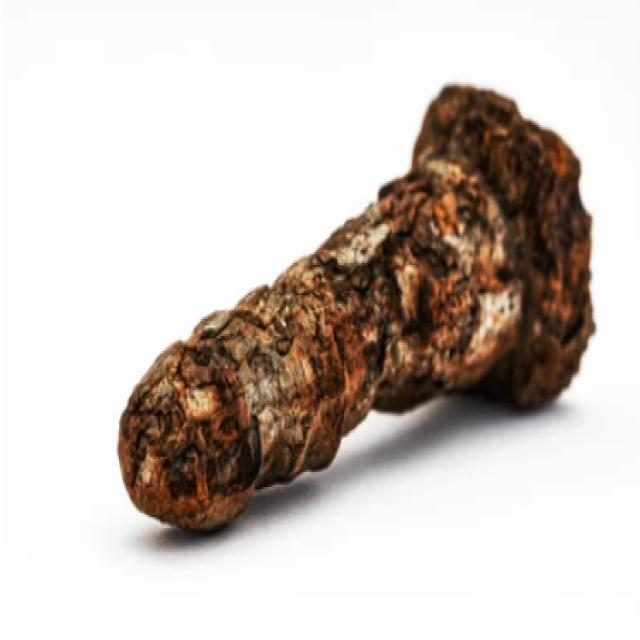corrosion: (111, 70, 601, 537)
